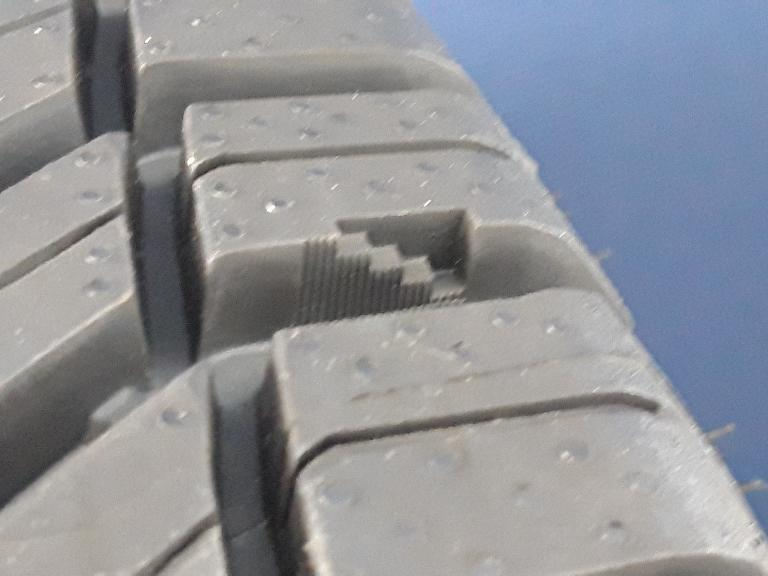temoin:100: (290, 200, 485, 332)
